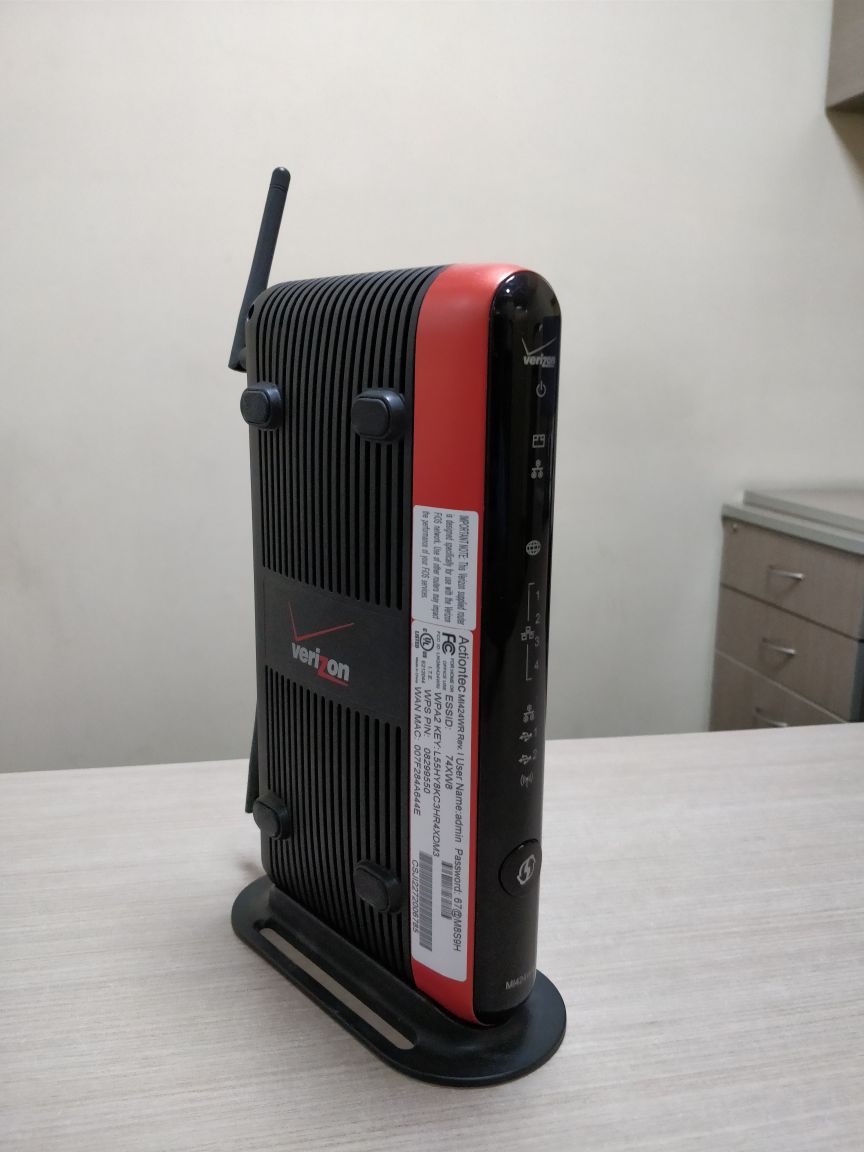Verizon Router: (186, 159, 638, 1090)
